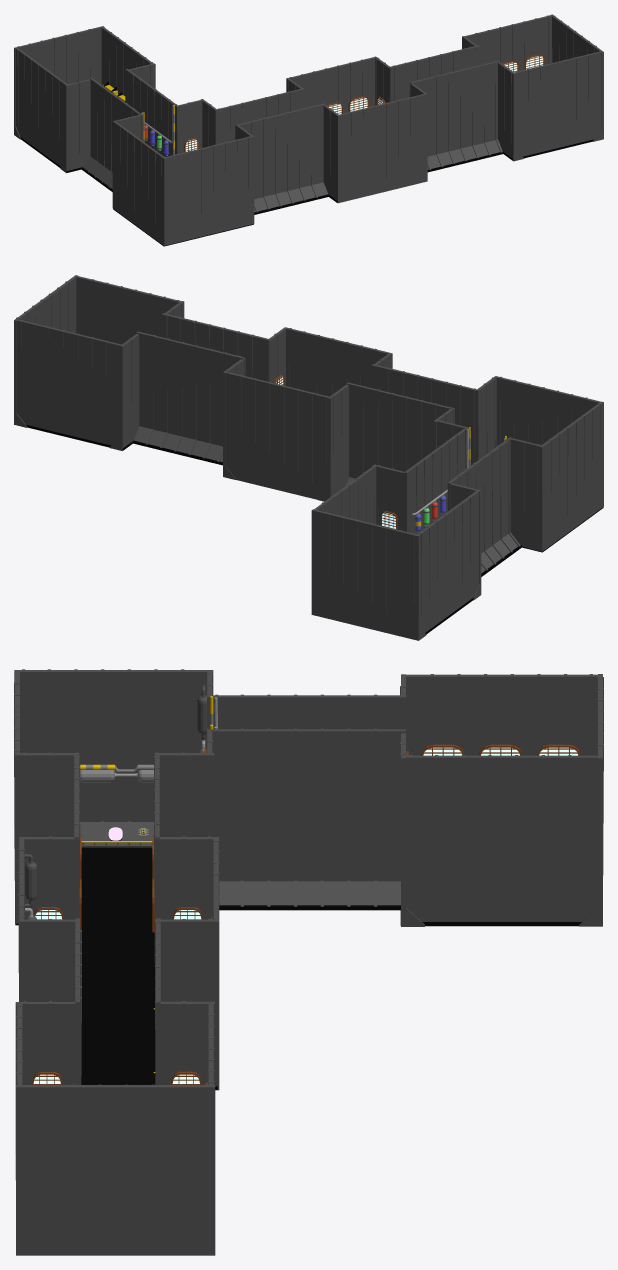
The model's file is Level5.fbx.
3 views of the same model, one above another, from view 1: azimuth 30°, elevation 25°; view 2: azimuth 150°, elevation 25°; view 3: azimuth 270°, elevation 25° (orthographic). The views are drawn at different scales.
Parts seen in each view (by area): view 1: Wall2.033, Wall1.030, Wall1.029, СТЕНИЩЕ 2.038, СТЕНИЩЕ 2.046, Wall2.034, Wall3.030, Wall3.029, Wall1.031, Wall3.028, WallWithCapsules.016, WallWithCapsules.015 (+10 smaller); view 2: Wall1.031, Wall3.029, Wall3.028, СТЕНИЩЕ 2.037, Wall2.034, СТЕНИЩЕ 2.045, Wall3.030, Wall1.029, Wall2.033, Wall1.030, WallWithCapsules.016, WallWithCapsules.015 (+10 smaller); view 3: Wall1.028, WallWithCapsules.015, Wall1.032, Wall2.034, Wall3.030, WalktroughWall2.031, WalktroughWall1.047, WalktroughWall1.046, WalktroughWall1.048, WallWithCapsules.016, RoomHallway1.039, Connection2.010 (+9 smaller).
Boxes of the visible parts, bbox=[...] form: Wall2.033: bbox=[332, 93, 427, 203]; Wall1.030: bbox=[163, 136, 253, 242]; Wall1.029: bbox=[514, 51, 601, 157]; СТЕНИЩЕ 2.038: bbox=[410, 60, 502, 170]; СТЕНИЩЕ 2.046: bbox=[235, 103, 327, 212]; Wall2.034: bbox=[112, 120, 174, 245]; Wall3.030: bbox=[15, 47, 67, 166]; Wall3.029: bbox=[286, 57, 375, 114]; Wall1.031: bbox=[14, 26, 104, 139]; Wall3.028: bbox=[465, 15, 551, 72]; WallWithCapsules.016: bbox=[83, 77, 144, 188]; WallWithCapsules.015: bbox=[125, 69, 179, 156]; Wall1.031: bbox=[311, 509, 426, 640]; Wall3.029: bbox=[226, 372, 335, 499]; Wall3.028: bbox=[17, 319, 121, 447]; СТЕНИЩЕ 2.037: bbox=[134, 331, 244, 462]; Wall2.034: bbox=[529, 401, 603, 551]; СТЕНИЩЕ 2.045: bbox=[345, 382, 454, 485]; Wall3.030: bbox=[417, 490, 479, 632]; Wall1.029: bbox=[76, 276, 180, 344]; Wall2.033: bbox=[284, 327, 392, 396]; Wall1.030: bbox=[496, 376, 602, 446]; WallWithCapsules.016: bbox=[447, 436, 520, 572]; WallWithCapsules.015: bbox=[404, 427, 470, 534]; Wall1.028: bbox=[16, 1084, 215, 1255]; WallWithCapsules.015: bbox=[210, 724, 406, 906]; Wall1.032: bbox=[406, 755, 597, 926]; Wall2.034: bbox=[14, 669, 213, 848]; Wall3.030: bbox=[402, 674, 600, 755]; WalktroughWall2.031: bbox=[15, 752, 214, 923]; WalktroughWall1.047: bbox=[20, 919, 219, 1090]; WalktroughWall1.046: bbox=[15, 1001, 214, 1179]; WalktroughWall1.048: bbox=[24, 836, 219, 1009]; WallWithCapsules.016: bbox=[210, 694, 406, 729]; RoomHallway1.039: bbox=[81, 1001, 217, 1089]; Connection2.010: bbox=[81, 921, 154, 1001].
Size of the model in its own units: 59103 by 11570 by 35427.
